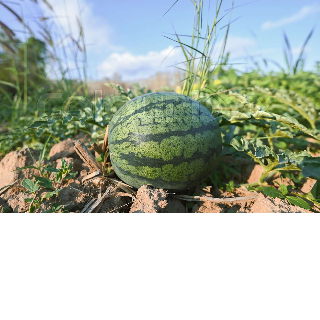dua_hau: (102, 89, 229, 194)
